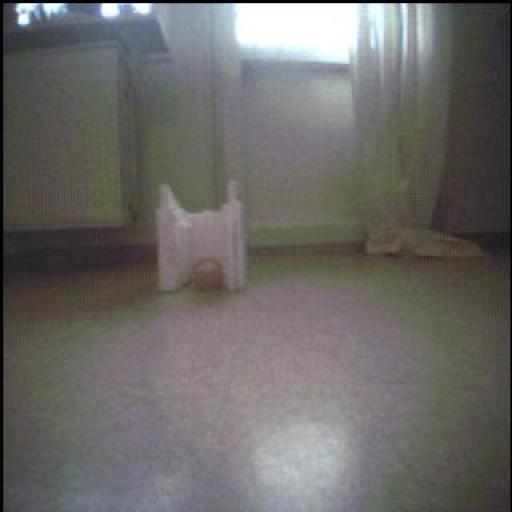Basket: (193, 259, 225, 292)
